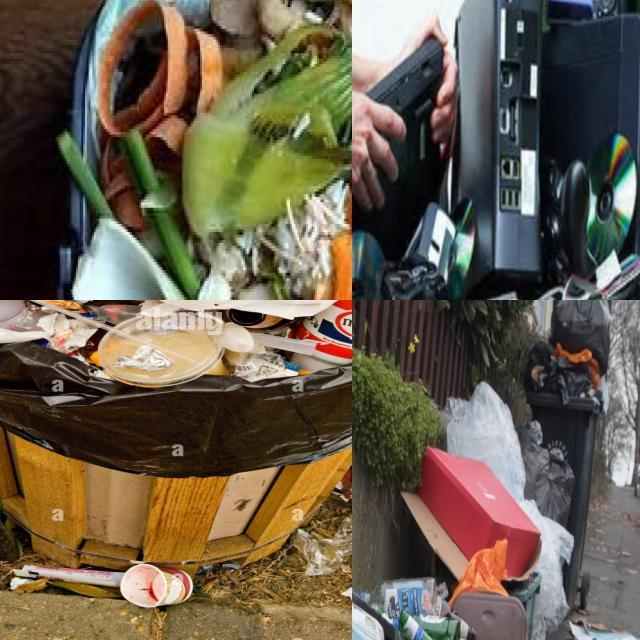Disposable: (96, 310, 224, 388), (294, 300, 352, 373)
E_waste: (452, 0, 541, 291), (541, 13, 640, 254), (352, 39, 445, 261), (587, 133, 637, 264), (352, 232, 445, 300), (560, 160, 590, 274), (447, 197, 475, 300)
Garbage: (352, 0, 640, 300), (80, 0, 352, 300), (0, 300, 352, 388)
Glass_bottle: (363, 578, 436, 621), (414, 614, 461, 640)
Plastic: (252, 333, 316, 356), (222, 322, 255, 352), (0, 300, 26, 322)
Plastic_Bag: (224, 342, 300, 381)
Plastic_bottle: (226, 308, 287, 329)
Plastic_wraper: (29, 300, 78, 310)
